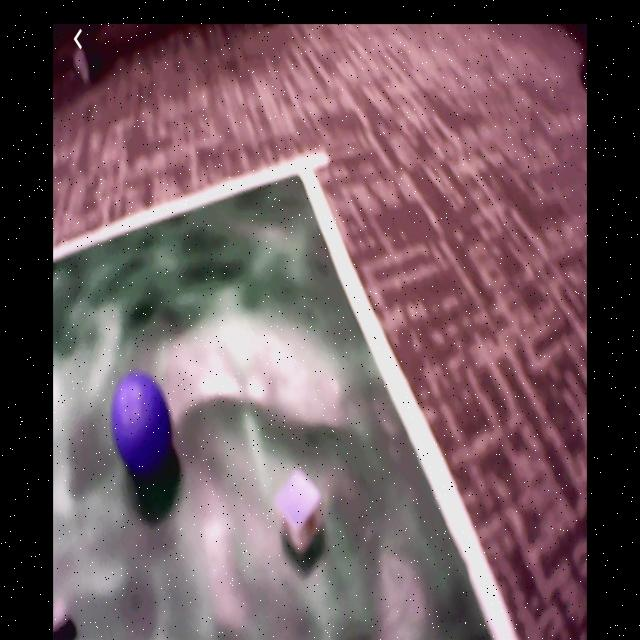ball: (112, 375, 171, 467)
